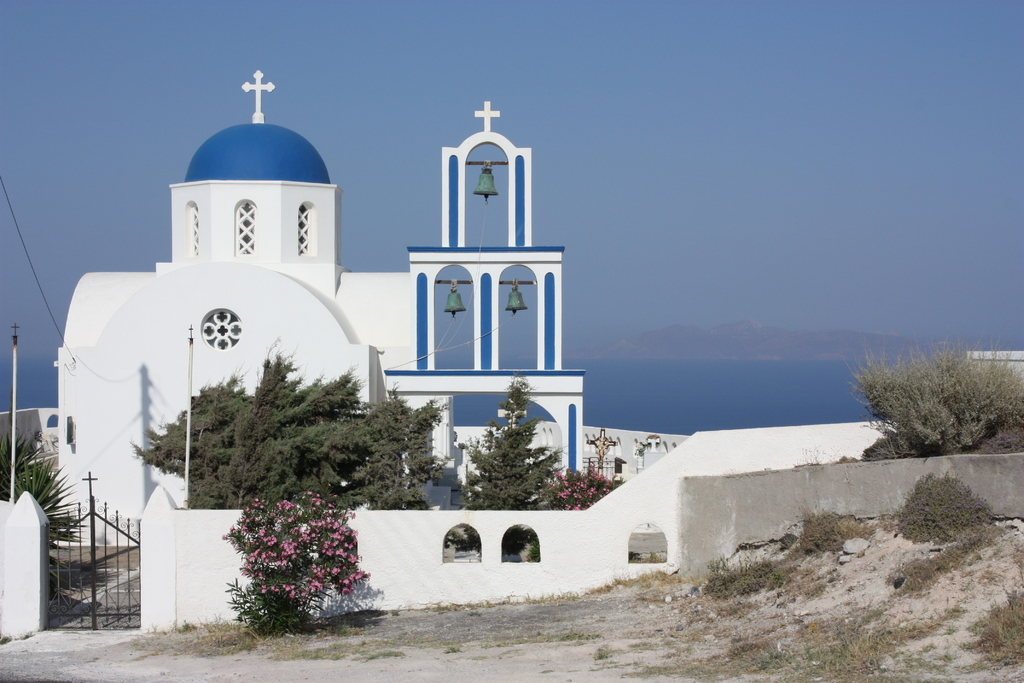Tree: (137, 339, 361, 509), (846, 340, 1023, 459), (452, 368, 561, 514), (351, 383, 449, 510)
